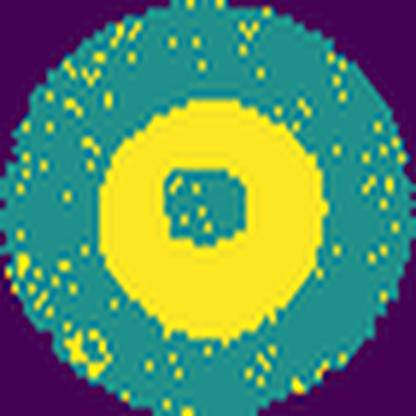Donut: (92, 86, 338, 347)
